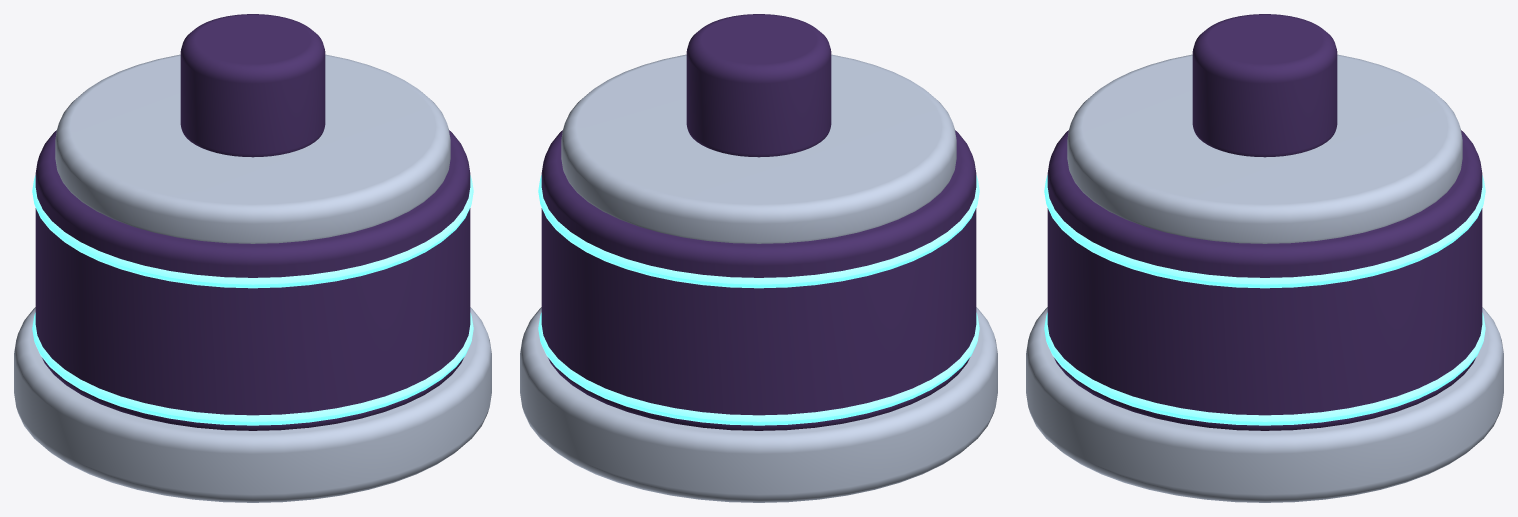
Rendered from claw-head-BN3OZ4sh.glb.
The picture shows the model from 3 angles, left to right: view 1: azimuth 30°, elevation 25°; view 2: azimuth 150°, elevation 25°; view 3: azimuth 270°, elevation 25°; orthographic projection.
Visible parts, largest first — view 1: Indigo motor housing, Titanium top cap, Titanium lower collar, Cable socket, Cyan luminous seam, Cyan luminous seam.001; view 2: Indigo motor housing, Titanium top cap, Titanium lower collar, Cable socket, Cyan luminous seam, Cyan luminous seam.001; view 3: Indigo motor housing, Titanium top cap, Titanium lower collar, Cable socket, Cyan luminous seam, Cyan luminous seam.001.
Part boxes in pixels (<box>): Indigo motor housing: <box>35,130,470,430</box>; Titanium top cap: <box>55,54,450,243</box>; Titanium lower collar: <box>14,307,491,502</box>; Cable socket: <box>180,14,325,157</box>; Cyan luminous seam: <box>32,312,473,425</box>; Cyan luminous seam.001: <box>32,175,473,288</box>; Indigo motor housing: <box>541,130,976,430</box>; Titanium top cap: <box>561,54,956,243</box>; Titanium lower collar: <box>520,307,997,502</box>; Cable socket: <box>686,14,831,157</box>; Cyan luminous seam: <box>538,312,979,425</box>; Cyan luminous seam.001: <box>538,175,979,288</box>; Indigo motor housing: <box>1047,130,1482,430</box>; Titanium top cap: <box>1067,54,1462,243</box>; Titanium lower collar: <box>1026,307,1503,502</box>; Cable socket: <box>1192,14,1337,157</box>; Cyan luminous seam: <box>1044,312,1485,425</box>; Cyan luminous seam.001: <box>1044,175,1485,288</box>.
Bounding box in the file's own units: 0.29 × 0.255 × 0.29.
